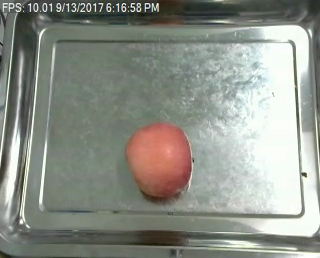Apple: (123, 121, 194, 199)
